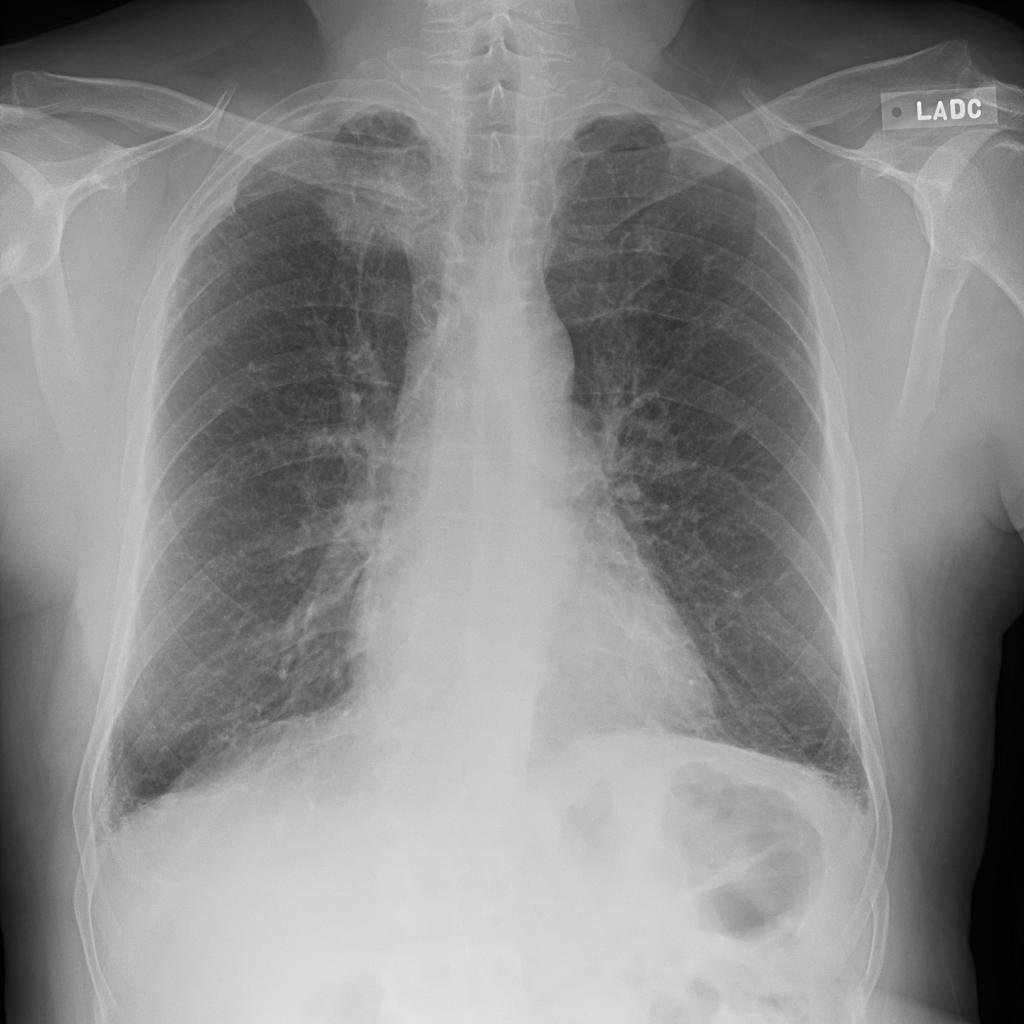Nodule: (156, 79, 227, 139)
